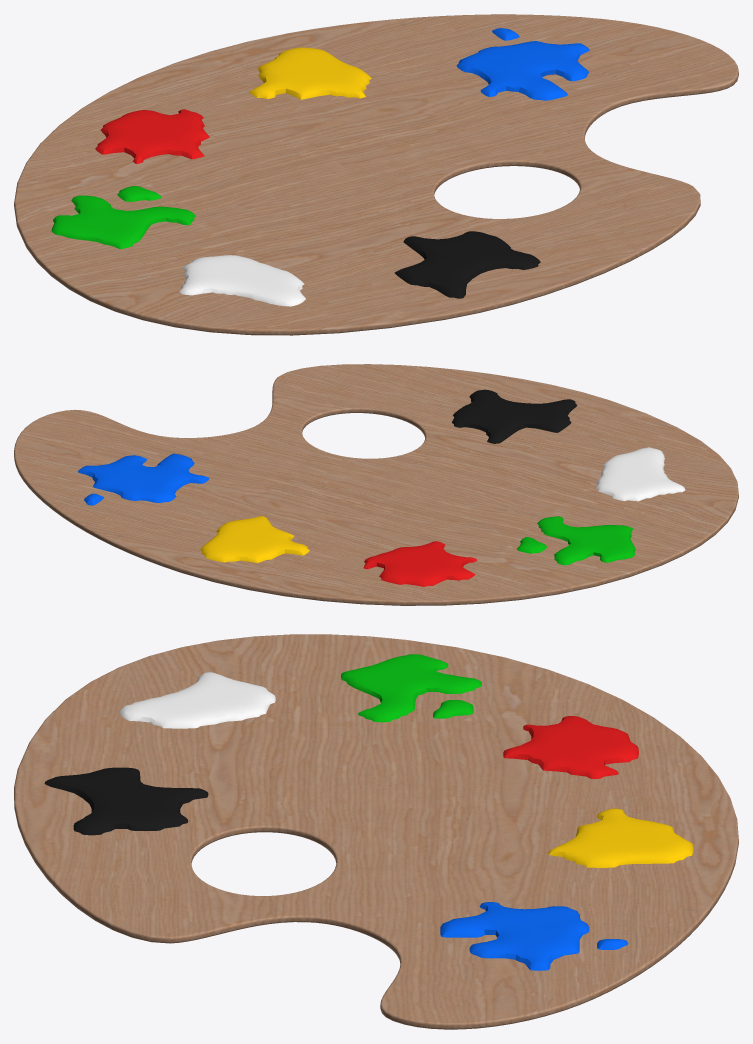
Rendered from paleta.obj.
The picture shows the model from 3 angles, top to bottom: view 1: azimuth 30°, elevation 25°; view 2: azimuth 150°, elevation 25°; view 3: azimuth 270°, elevation 25°; orthographic projection. The views are drawn at different scales.
Parts seen in each view (by area): view 1: Line01, Plane06, Plane05, Plane08, Plane01, Plane02, Plane07; view 2: Line01, Plane06, Plane05, Plane08, Plane02, Plane01, Plane07; view 3: Line01, Plane06, Plane05, Plane08, Plane01, Plane02, Plane07.
Part boxes in pixels (left/top/right/bottom): Line01: left=14, top=14, right=738, bottom=335; Plane06: left=456, top=28, right=589, bottom=100; Plane05: left=394, top=231, right=540, bottom=298; Plane08: left=51, top=186, right=195, bottom=249; Plane01: left=249, top=47, right=371, bottom=99; Plane02: left=95, top=109, right=209, bottom=163; Plane07: left=179, top=255, right=305, bottom=306; Line01: left=14, top=364, right=738, bottom=605; Plane06: left=78, top=453, right=209, bottom=505; Plane05: left=452, top=389, right=577, bottom=443; Plane08: left=517, top=516, right=635, bottom=565; Plane02: left=363, top=541, right=477, bottom=586; Plane01: left=200, top=516, right=309, bottom=563; Plane07: left=596, top=447, right=685, bottom=501; Line01: left=14, top=634, right=738, bottom=1029; Plane06: left=440, top=902, right=628, bottom=970; Plane05: left=44, top=767, right=208, bottom=835; Plane08: left=341, top=654, right=481, bottom=722; Plane01: left=548, top=808, right=693, bottom=867; Plane02: left=503, top=716, right=638, bottom=778; Plane07: left=119, top=672, right=275, bottom=728.
Bounding box in the file's own units: 110 × 1.78 × 86.24.
7 materials, 7 textured.
